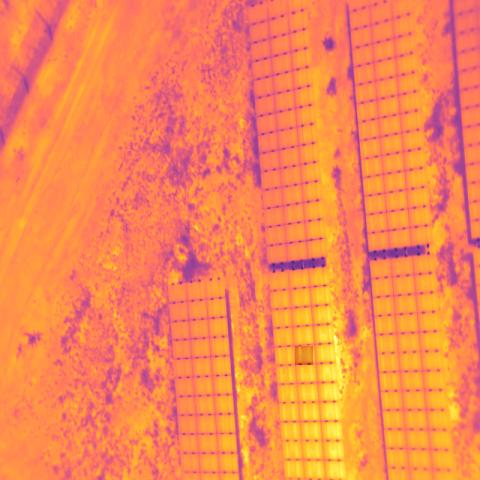fault: (296, 346, 314, 365)
